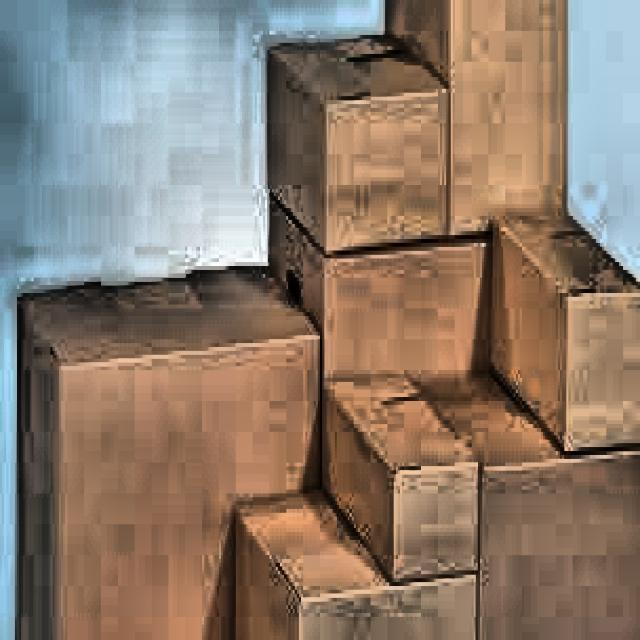cardboard: (12, 0, 638, 636), (14, 258, 320, 636)
